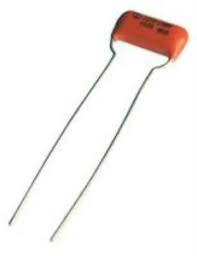ceramic capacitor: (87, 3, 197, 72)
